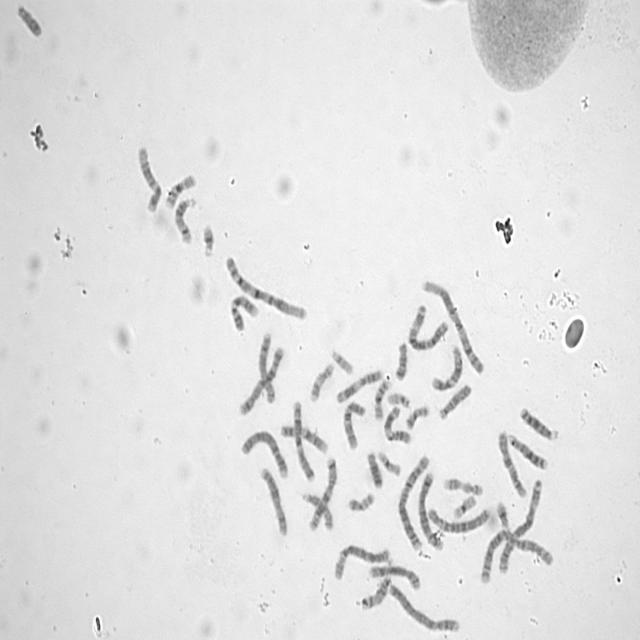A1: (418, 275, 486, 377), (221, 250, 308, 322)
A2: (475, 524, 554, 585), (394, 450, 431, 552)
A3: (496, 475, 543, 575), (405, 300, 450, 352)
B4: (386, 580, 462, 634), (237, 426, 289, 480)
B5: (236, 342, 284, 417), (414, 468, 444, 552)
C10: (494, 427, 528, 499), (338, 396, 366, 452)
C11: (332, 365, 384, 404), (380, 400, 412, 446)
C12: (134, 140, 162, 214), (428, 342, 463, 392)
C6: (330, 541, 390, 581), (424, 502, 491, 535)
C7: (305, 453, 338, 532), (289, 396, 316, 483)
C8: (364, 560, 420, 592), (255, 330, 276, 404)
C9: (276, 419, 328, 455), (226, 290, 260, 332)
D13: (503, 429, 548, 472), (517, 402, 559, 442)
D14: (170, 193, 196, 246), (358, 572, 392, 612)
D15: (298, 488, 334, 532), (435, 380, 472, 421)
E16: (161, 170, 197, 210), (370, 376, 391, 420)
E17: (306, 358, 335, 403), (440, 473, 484, 497)
E18: (363, 448, 383, 490), (391, 337, 409, 382)
F19: (374, 446, 402, 477), (449, 490, 477, 520)
F20: (402, 401, 430, 431), (344, 488, 376, 514)
G21: (198, 220, 215, 258), (493, 497, 511, 530)
G22: (327, 345, 354, 376), (384, 388, 412, 409)
X: (256, 463, 288, 538)
Y: (13, 1, 43, 38)
